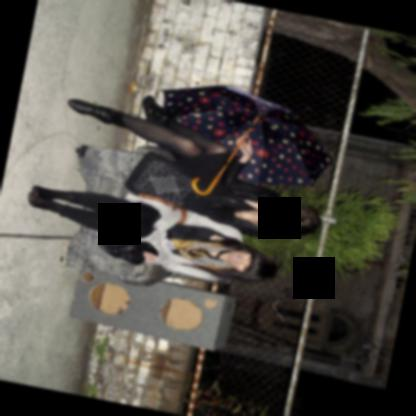handbag: (123, 149, 198, 206)
